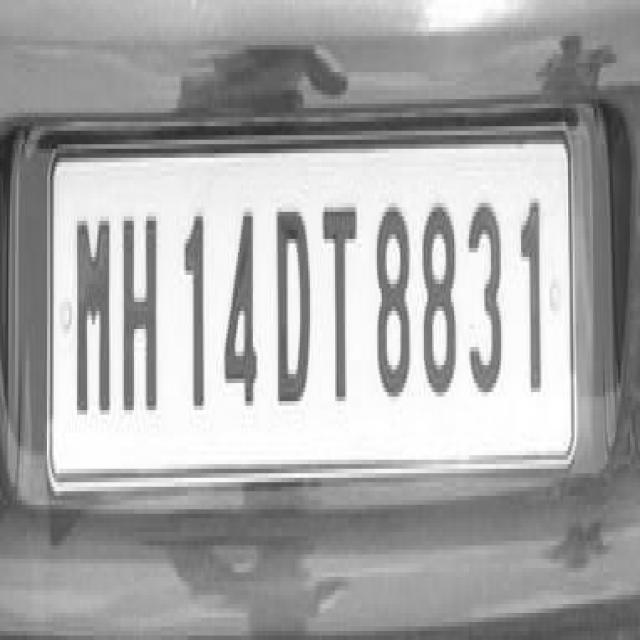license-plate: (47, 153, 571, 460)
